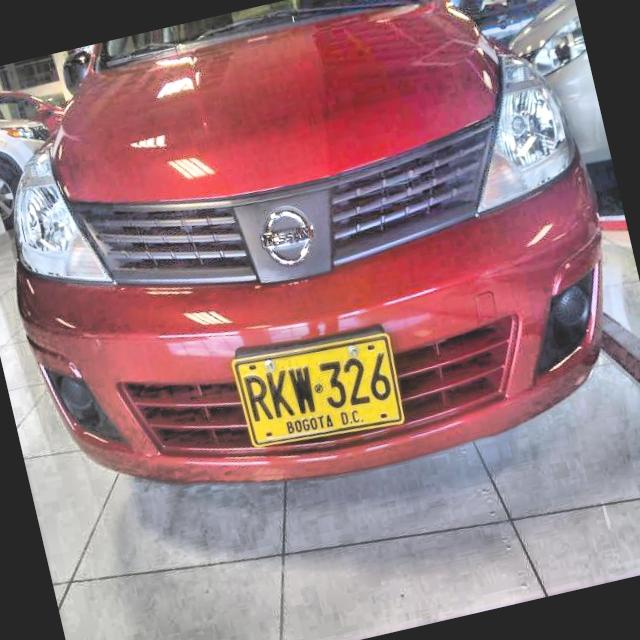plate: (233, 335, 402, 445)
